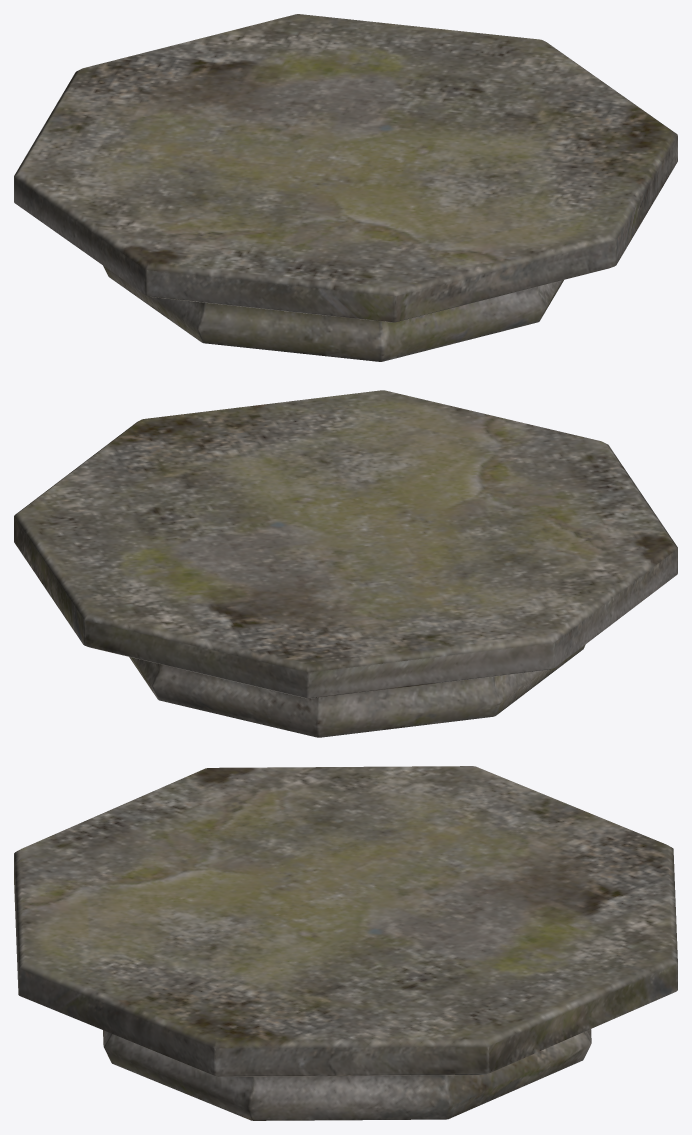
File: SM_ChapelColumnTop_01_01.fbx
3 renders of one model, top to bottom at view 1: azimuth 30°, elevation 25°; view 2: azimuth 150°, elevation 25°; view 3: azimuth 270°, elevation 25°, orthographic. The views are drawn at different scales.
Visible parts, largest first — view 1: sm_ChapelColumnTop_01_01_LOD0; view 2: sm_ChapelColumnTop_01_01_LOD0; view 3: sm_ChapelColumnTop_01_01_LOD0.
Part boxes in pixels (box(x1,y1,x2,y2)): sm_ChapelColumnTop_01_01_LOD0: box(14, 14, 677, 361); sm_ChapelColumnTop_01_01_LOD0: box(14, 390, 677, 737); sm_ChapelColumnTop_01_01_LOD0: box(14, 766, 677, 1120).
Bounding box in the file's own units: 117 × 117 × 22.67.
